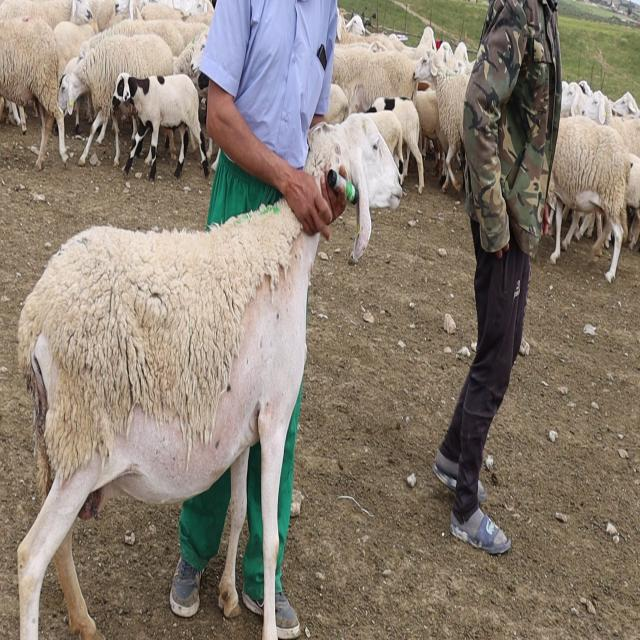Score_2: (17, 200, 320, 639)
